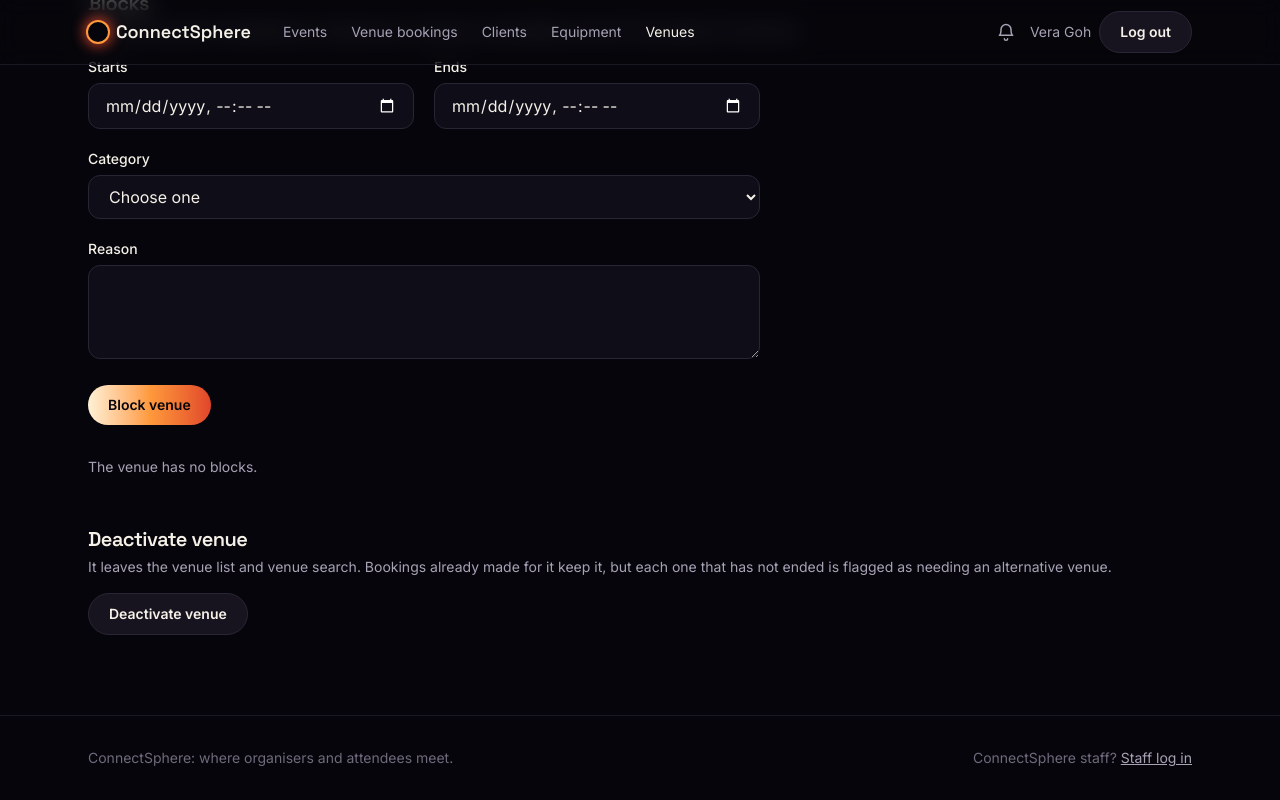
Test: SCRUM-25 deactivating a venue (AC5, SCRUM-92 AC9) › says what deactivating does to bookings, before and while asking
(page scrolled)
Expected: the element "Deactivate venue" shows "It leaves the venue list and venue search. Bookings already made for it keep it, but each one that has not ended is flagged as needing an alternative venue.", [88,558,1112,575]
Click the button "Deactivate venue" at (168, 614), box [88,593,248,635]
(page scrolled)
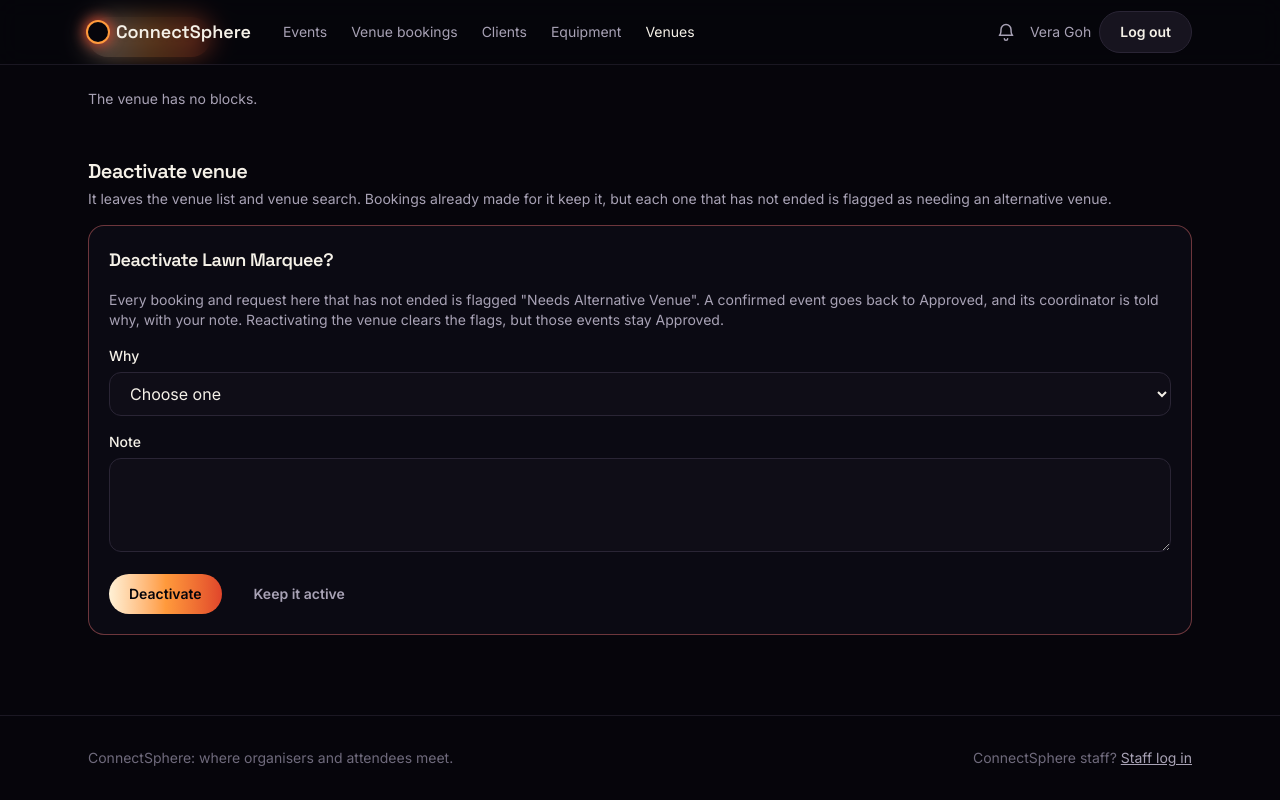
Now the form "Deactivate Lawn Marquee?" shows "Every booking and request here that has not ended is flagged \"Needs Alternative Venue\". A confirmed event goes back to Approved, and its coordinator is told why", box [109,291,1159,328]
